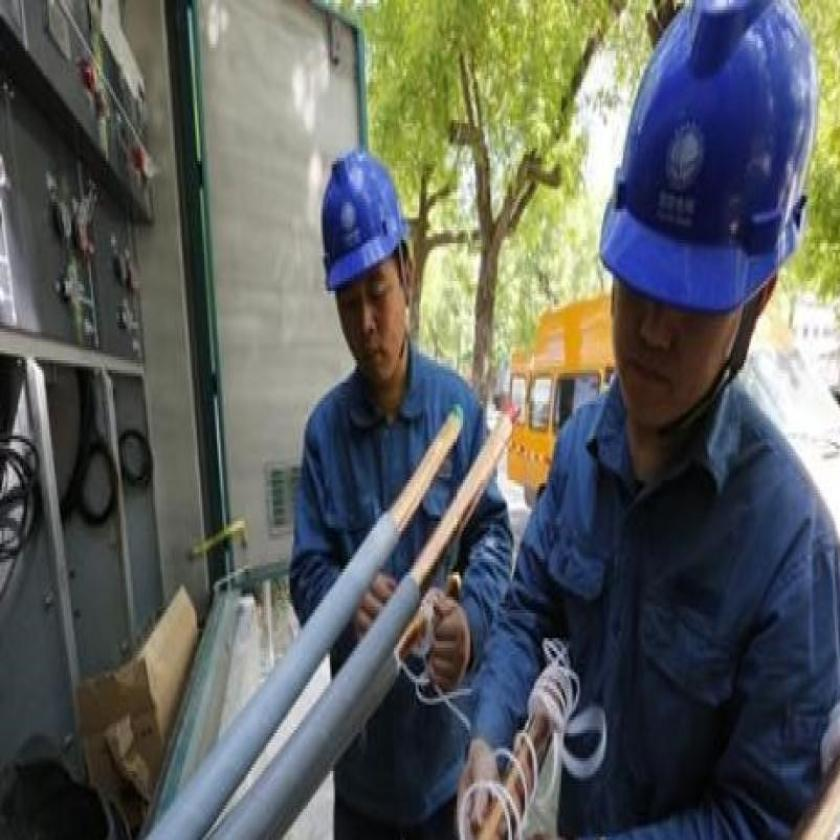Con_casco: (593, 0, 825, 440), (311, 148, 419, 384)
